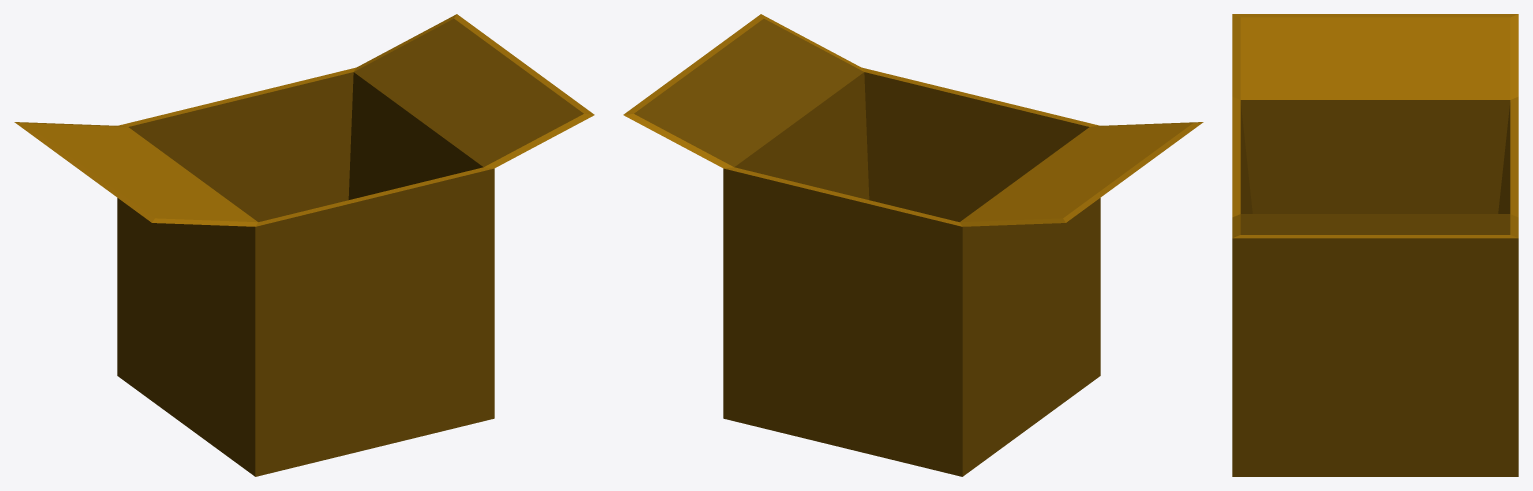
Rendered from Box Open.fbx.
3 views of the same model, side by side, from view 1: azimuth 30°, elevation 25°; view 2: azimuth 150°, elevation 25°; view 3: azimuth 270°, elevation 25° (orthographic). The views are drawn at different scales.
Visible parts, largest first — view 1: Box Open; view 2: Box Open; view 3: Box Open.
Boxes of the visible parts, box(x1,y1,x2,y2) form: Box Open: box(14, 14, 594, 476); Box Open: box(623, 14, 1203, 476); Box Open: box(1232, 14, 1518, 476).
Bounding box in the file's own units: 111 × 66.98 × 60.
